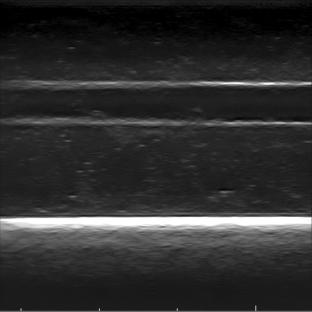vessel: (3, 78, 311, 128)
